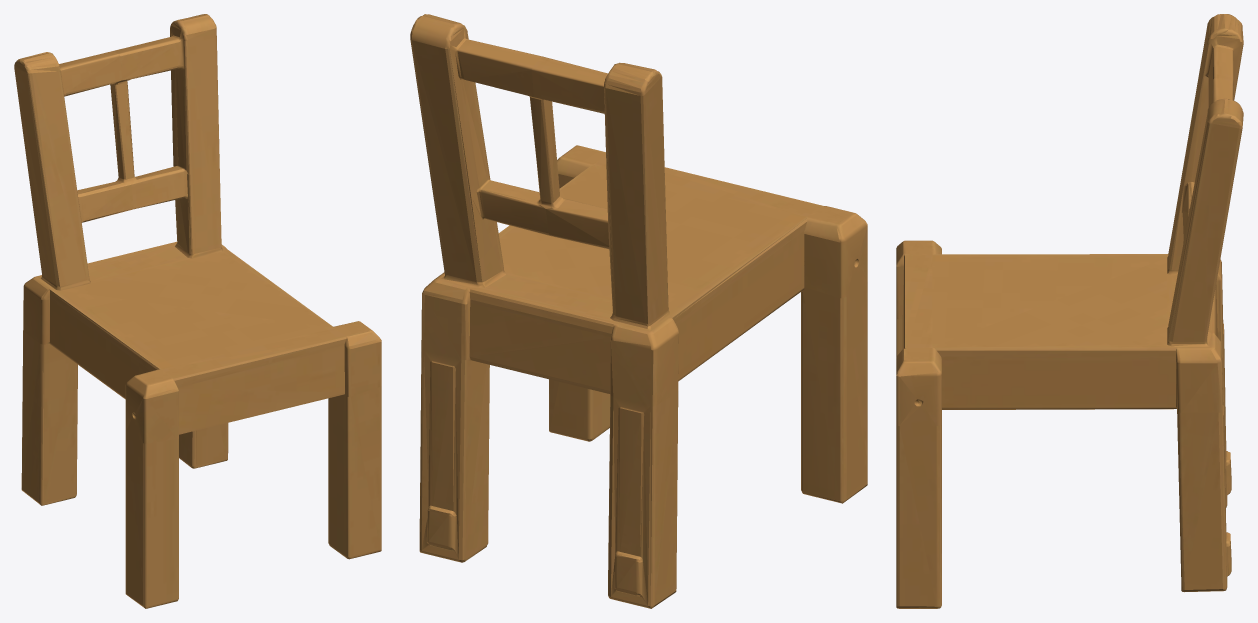
Rendered from cadeira.glb.
The picture shows the model from 3 angles, left to right: view 1: azimuth 30°, elevation 25°; view 2: azimuth 150°, elevation 25°; view 3: azimuth 270°, elevation 25°; orthographic projection. The views are drawn at different scales.
Bounding box in the file's own units: 1.09 × 1.91 × 1.24.
Materials: 1 (1 with a texture image).
